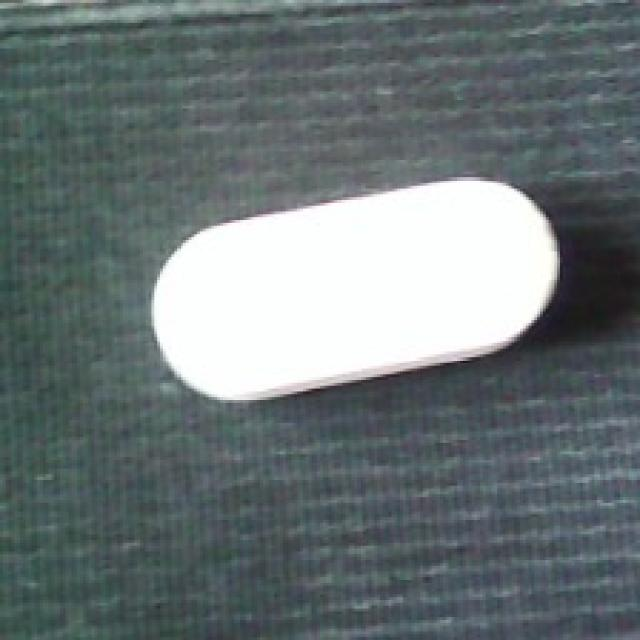no-defect: (146, 173, 567, 405)
